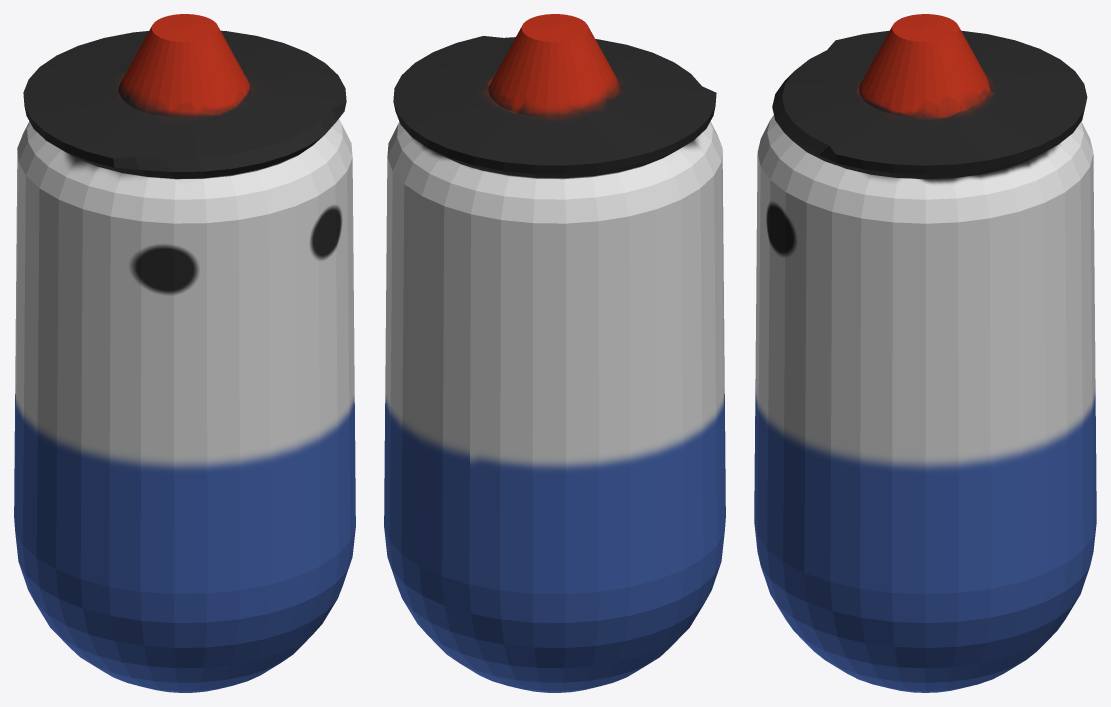
The model's file is Player.glb.
3 renders of one model, left to right at view 1: azimuth 30°, elevation 25°; view 2: azimuth 150°, elevation 25°; view 3: azimuth 270°, elevation 25°, orthographic.
Parts seen in each view (by area): view 1: Player; view 2: Player; view 3: Player.
Part boxes in pixels (x1=…): Player: x1=14, y1=14, x2=355, y2=692; Player: x1=384, y1=14, x2=725, y2=692; Player: x1=754, y1=14, x2=1096, y2=692.
Bounding box in the file's own units: 2 × 4.19 × 2.
1 material, 1 textured.
